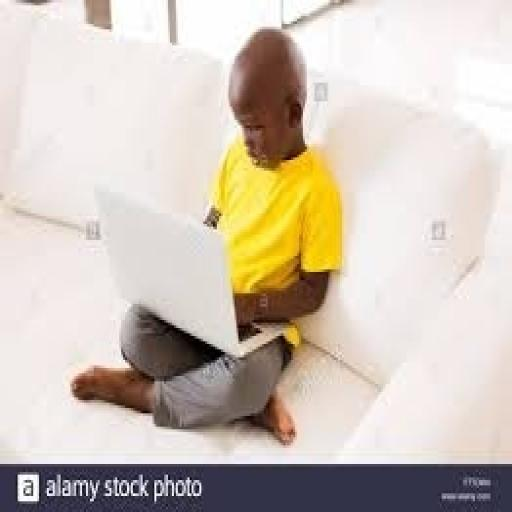using_laptop: (92, 179, 287, 360)
